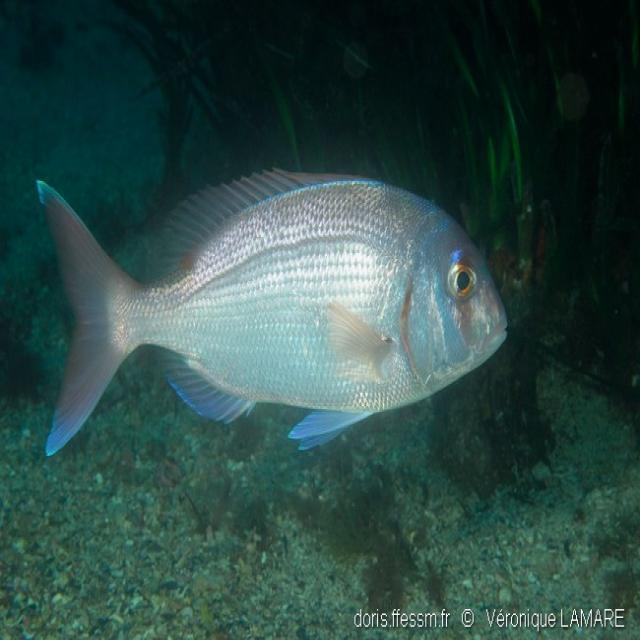Healthy Fish: (15, 143, 541, 465)
